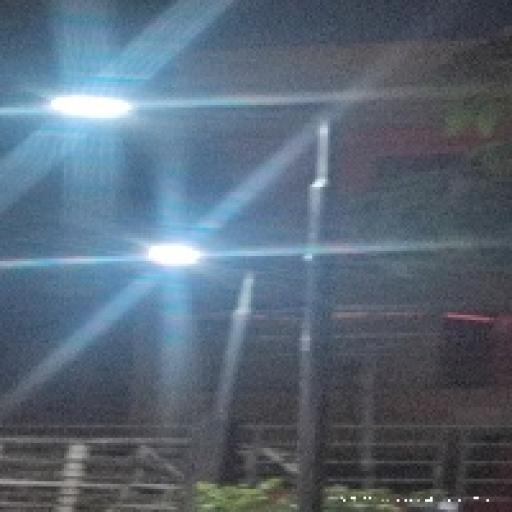Working: (35, 82, 143, 134), (134, 231, 210, 286)
